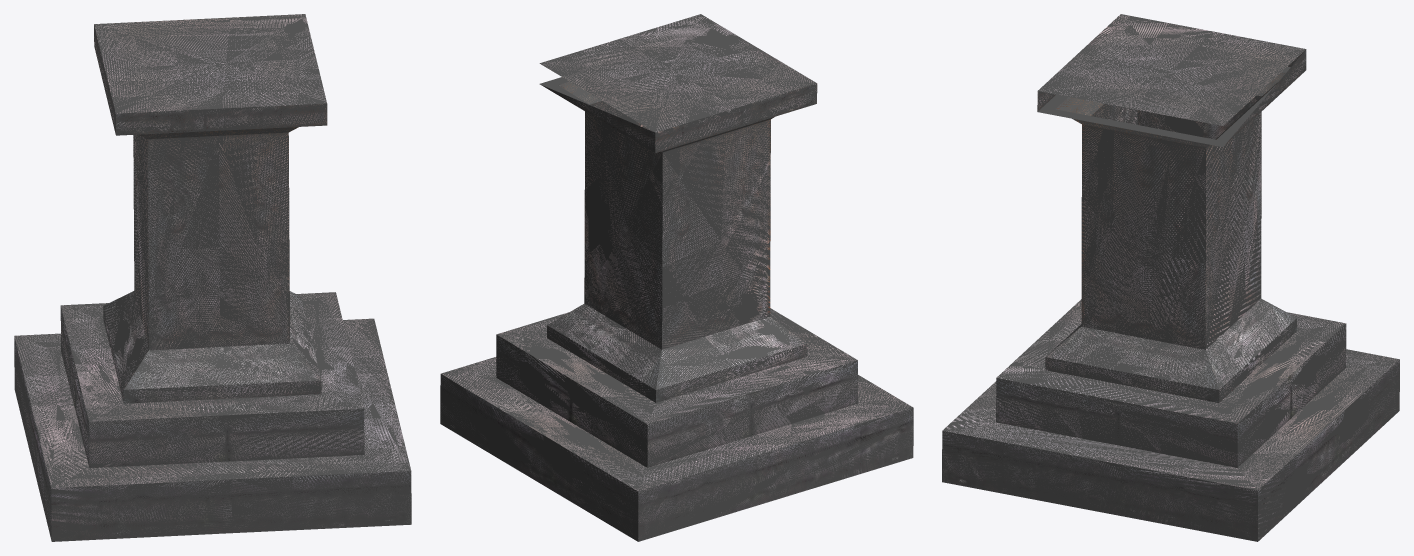
The model's file is stonepadastal.dae.
The picture shows the model from 3 angles, left to right: view 1: azimuth 30°, elevation 25°; view 2: azimuth 150°, elevation 25°; view 3: azimuth 270°, elevation 25°; orthographic projection. The views are drawn at different scales.
Parts seen in each view (by area): view 1: piedistallo_Carlo_v (×4); view 2: piedistallo_Carlo_v (×4); view 3: piedistallo_Carlo_v (×5).
Part boxes in pixels (box(x1,y1,x2,y2)): piedistallo_Carlo_v (×4): box(14, 14, 411, 541); piedistallo_Carlo_v (×4): box(440, 14, 913, 541); piedistallo_Carlo_v (×5): box(942, 14, 1399, 541).
Bounding box in the file's own units: 116 × 117 × 106.
